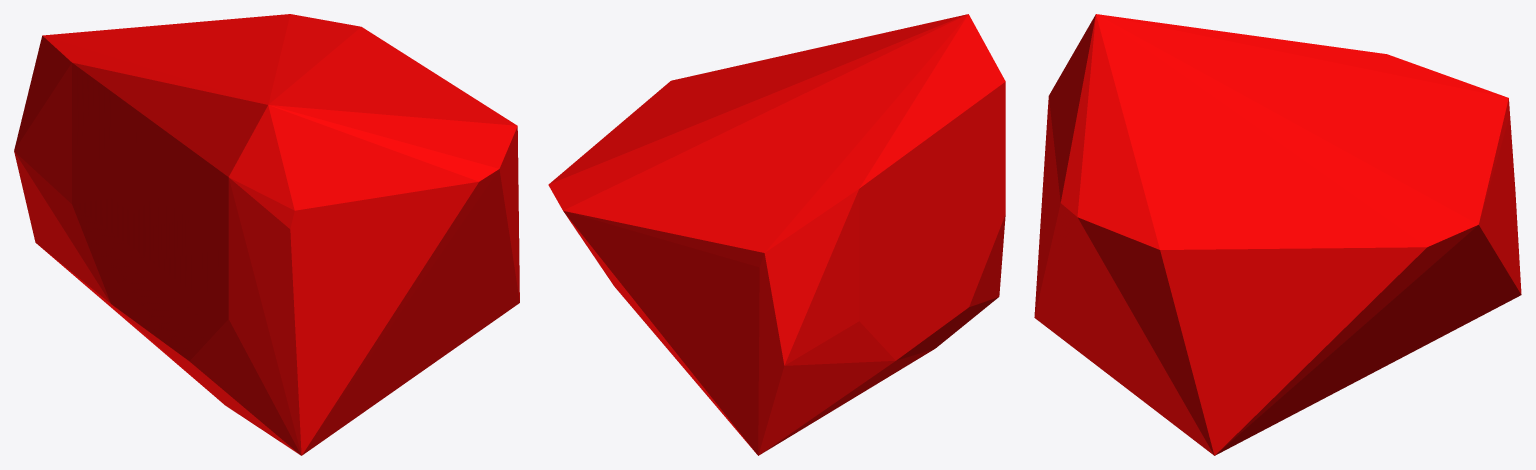
Rendered from tip_006_2_convex_hull_06.obj.
3 renders of one model, left to right at view 1: azimuth 30°, elevation 25°; view 2: azimuth 150°, elevation 25°; view 3: azimuth 270°, elevation 25°, orthographic. The views are drawn at different scales.
Parts seen in each view (by area): view 1: tip_006_2_convex_hull_06; view 2: tip_006_2_convex_hull_06; view 3: tip_006_2_convex_hull_06.
Part boxes in pixels (x1,y1,x2,y2): tip_006_2_convex_hull_06: (14,14,519,455); tip_006_2_convex_hull_06: (548,14,1005,455); tip_006_2_convex_hull_06: (1034,14,1521,455).
Bounding box in the file's own units: 0.00157 × 0.00139 × 0.002.
